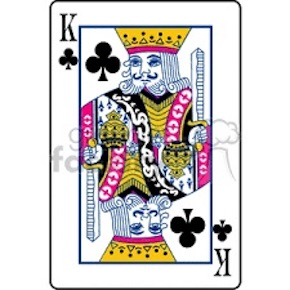KingOfClubs: (45, 1, 243, 290)
